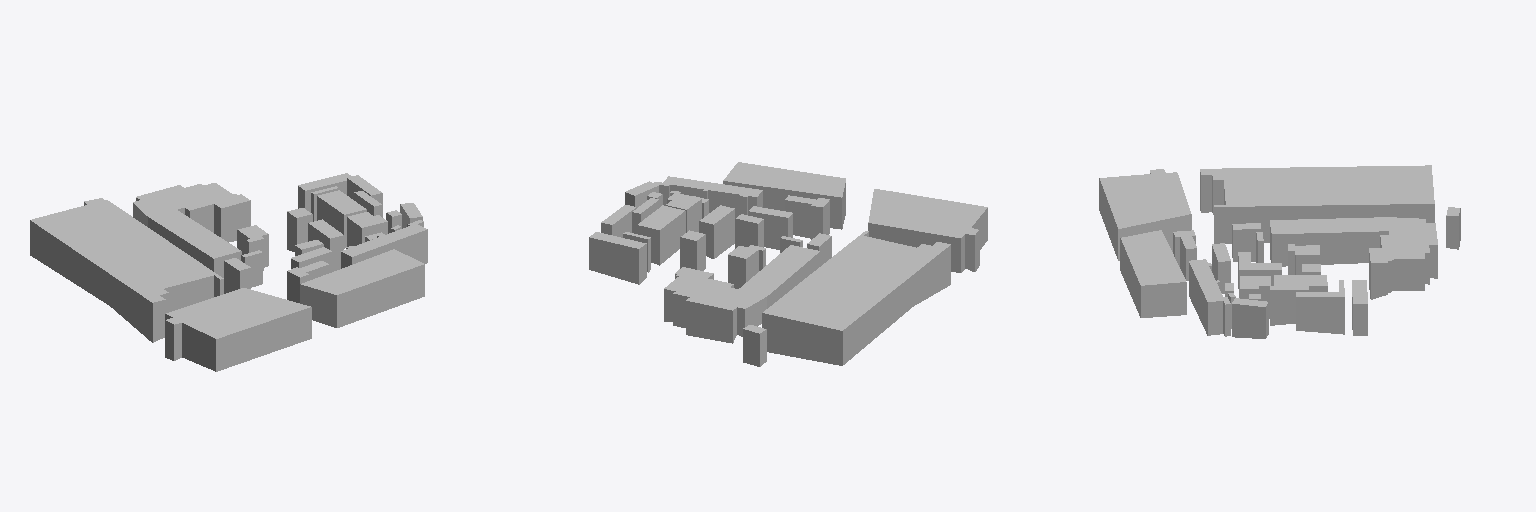
Rendered from Zaz1k.obj.
3 views of the same model, side by side, from view 1: azimuth 30°, elevation 25°; view 2: azimuth 150°, elevation 25°; view 3: azimuth 270°, elevation 25° (orthographic).
Parts seen in each view (by area): view 1: Areas:building.004; view 2: Areas:building.004; view 3: Areas:building.004.
Part boxes in pixels (left/top/right/bottom): Areas:building.004: left=30, top=173, right=427, bottom=371; Areas:building.004: left=589, top=162, right=987, bottom=366; Areas:building.004: left=1099, top=165, right=1460, bottom=338.
Bounding box in the file's own units: 716 × 115 × 744.